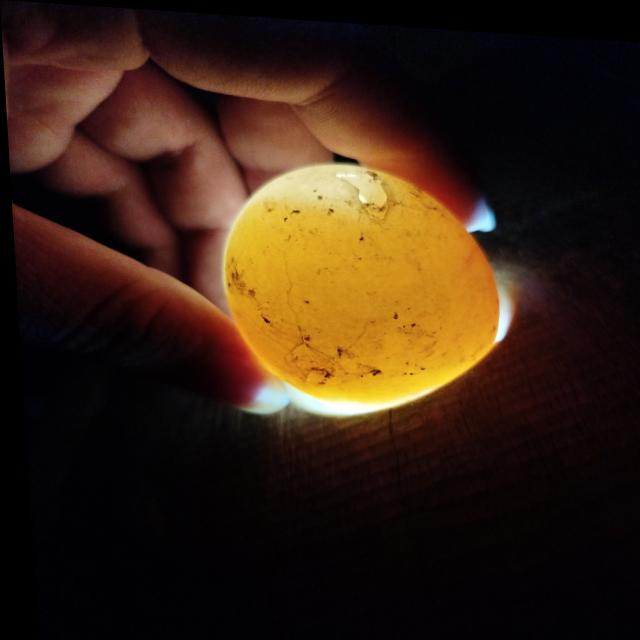Rachadura: (280, 338, 343, 382), (332, 167, 386, 214)
